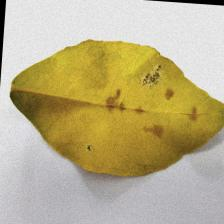black spot: (104, 86, 194, 162)
